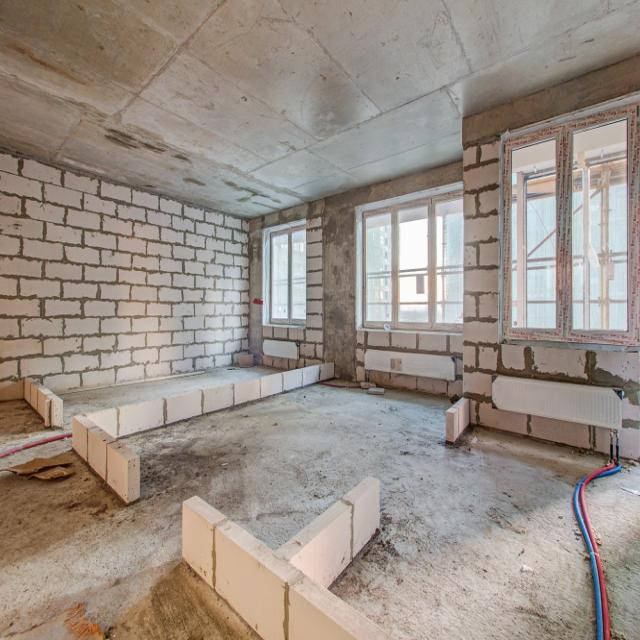floor: (0, 365, 611, 640), (584, 458, 640, 640)
wall: (462, 53, 640, 464), (0, 147, 250, 402), (249, 160, 464, 399), (262, 217, 307, 328), (364, 348, 456, 383), (262, 339, 299, 360)
